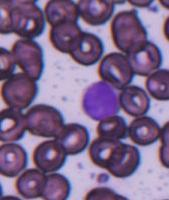L: (82, 80, 121, 121)
